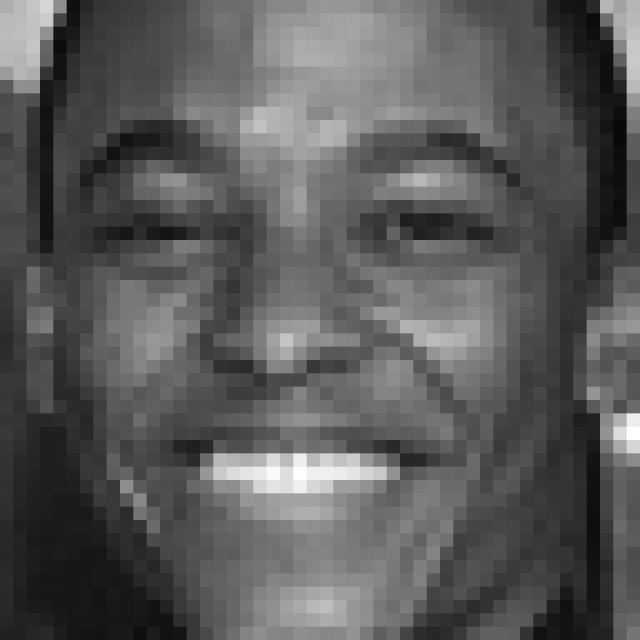happy: (79, 121, 532, 555)
